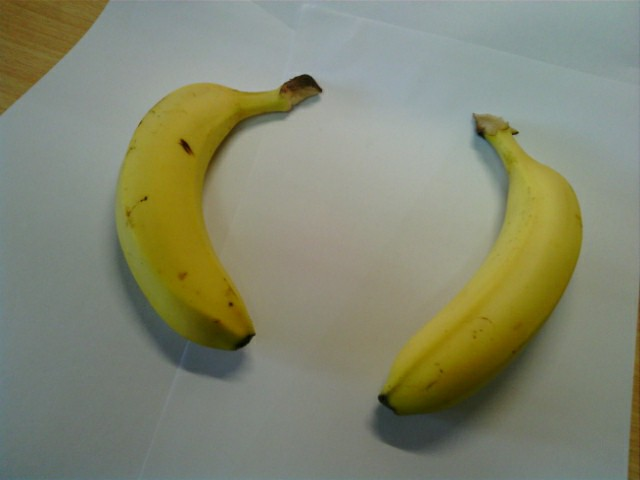fresh_banana: (375, 123, 584, 419)
normal_banana: (113, 82, 257, 350)
